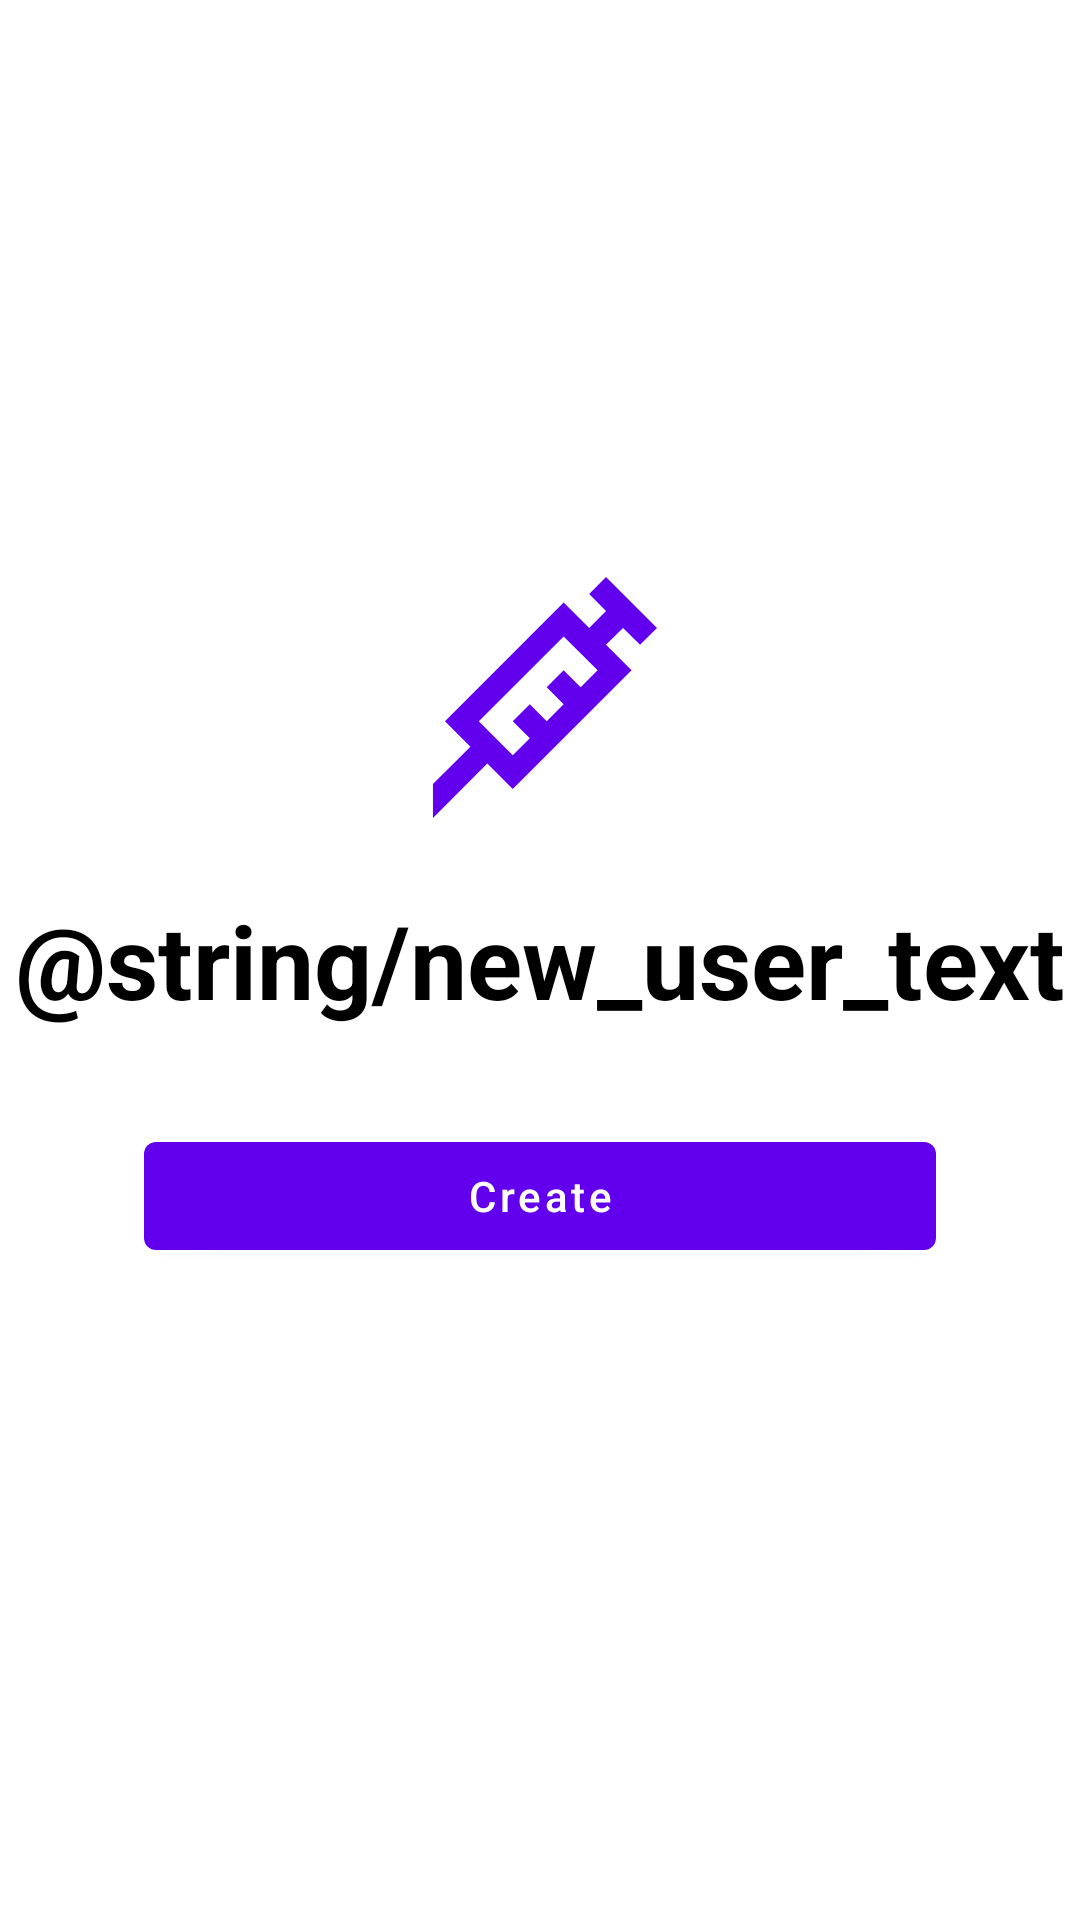

Screen size 1080px×1920px. Icon name, then its box in pixels as [x1=x1, y1=y1, x2=x2, y2=y2]:
needle: [x1=433, y1=577, x2=657, y2=818]
